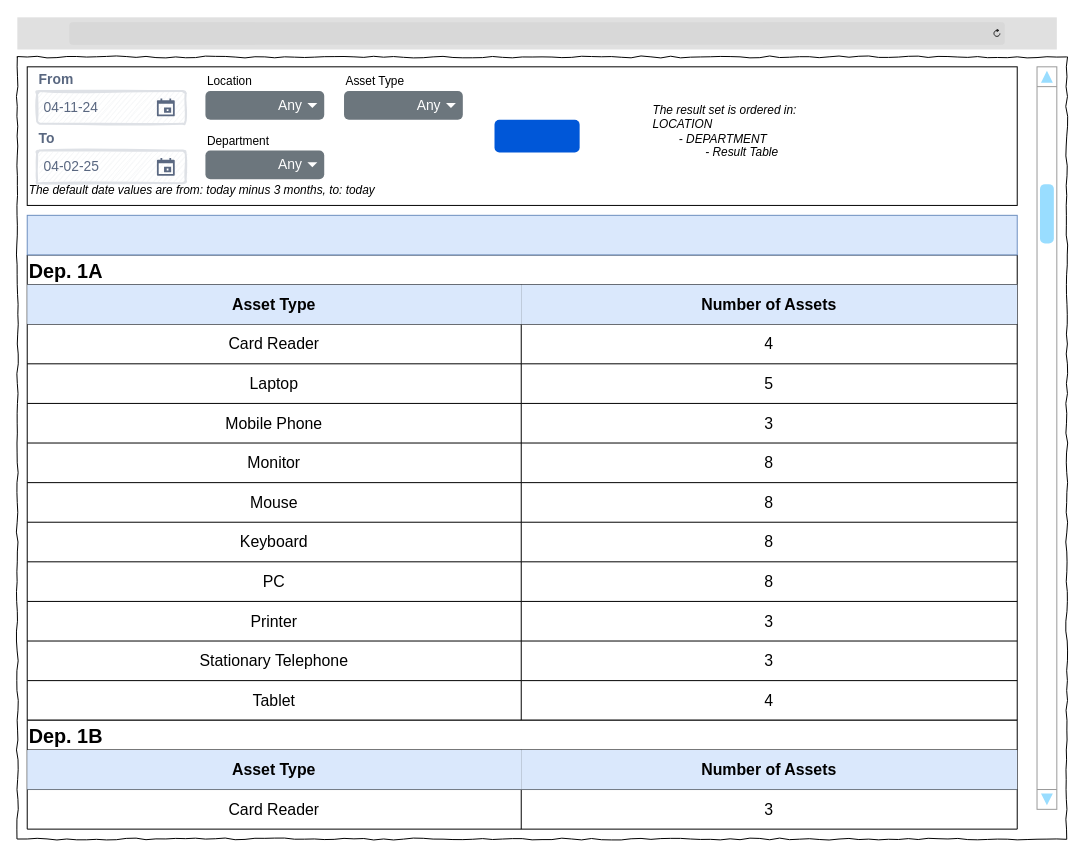
This 1084x856 diagram has some shape labels left out. The shapes that lost their labels are listed below. From the top down, each one's centre as x and y in pixels, then its label:
At (x=536, y=33): "companyitassets/reports/hardwareassets/distribution".
At (x=536, y=135): "Apply".
At (x=521, y=234): "Vienna".
